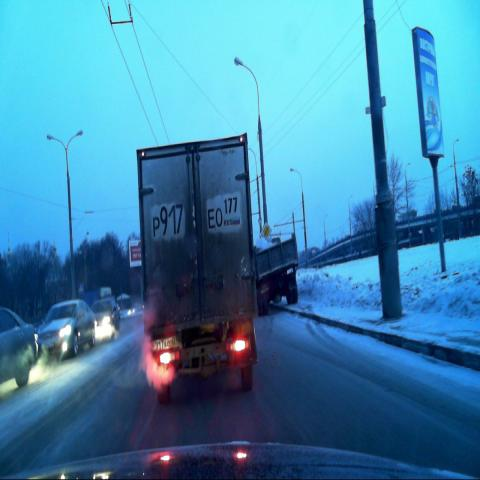2_2: (261, 221, 272, 241)
